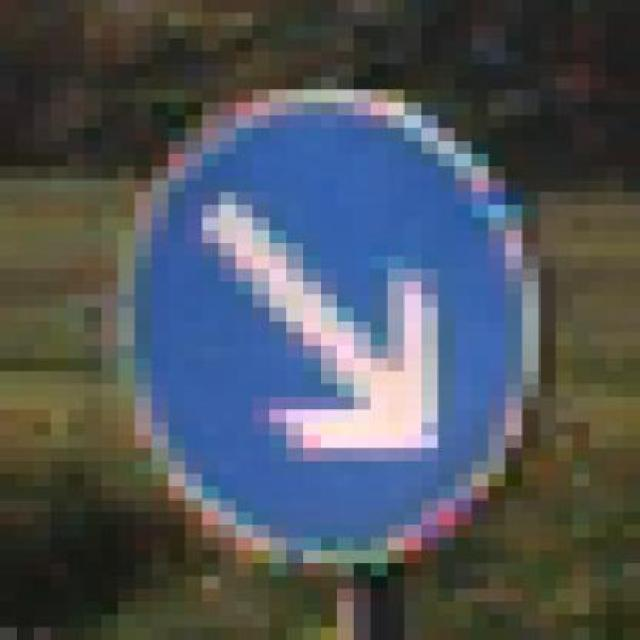Keep-Right: (84, 51, 573, 614)
